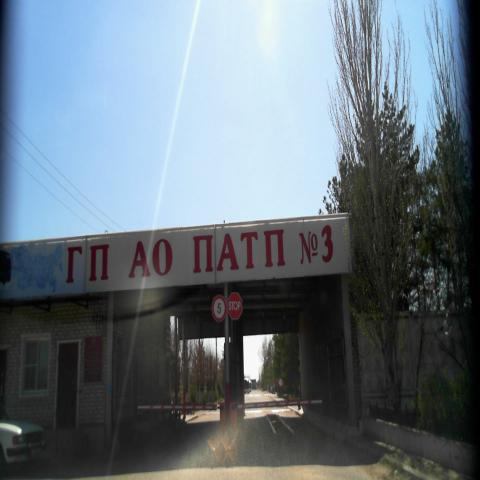2_5: (227, 290, 242, 319)
